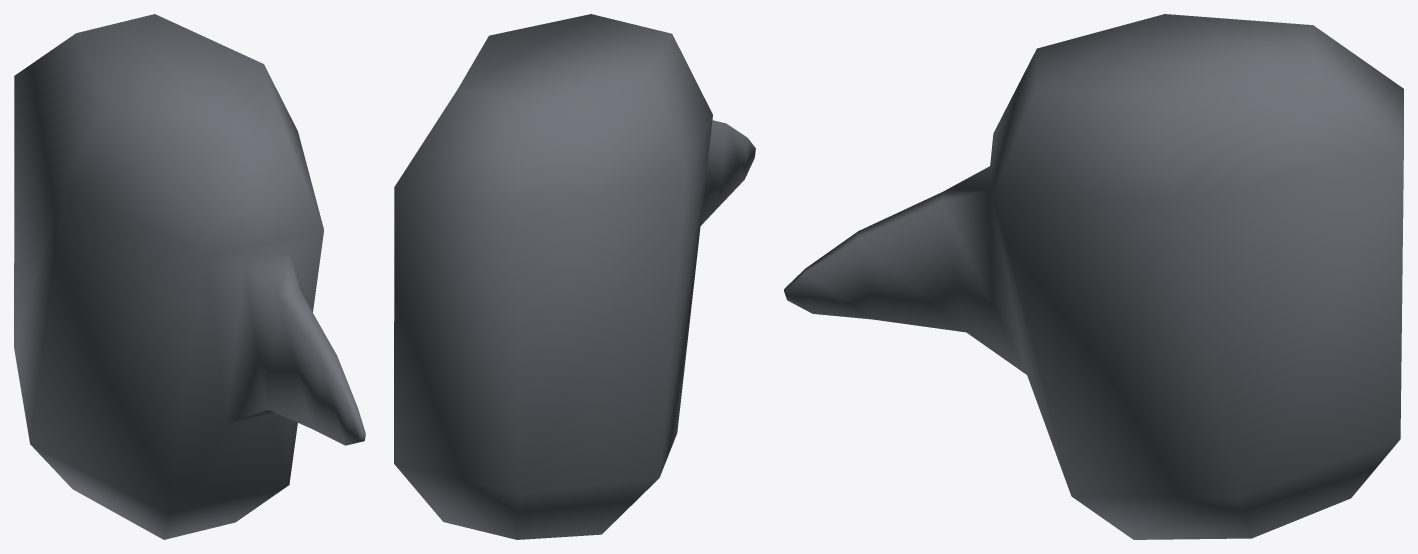
The model's file is Char_FL_Body2.FBX.
3 renders of one model, left to right at view 1: azimuth 30°, elevation 25°; view 2: azimuth 150°, elevation 25°; view 3: azimuth 270°, elevation 25°, orthographic. The views are drawn at different scales.
Visible parts, largest first — view 1: Cylinder004; view 2: Cylinder004; view 3: Cylinder004.
Boxes of the visible parts, x1,y1,x2,y2 form: Cylinder004: (14,14,365,539); Cylinder004: (394,14,755,539); Cylinder004: (784,14,1403,539).
Bounding box in the file's own units: 15.61 × 27.47 × 32.45.
